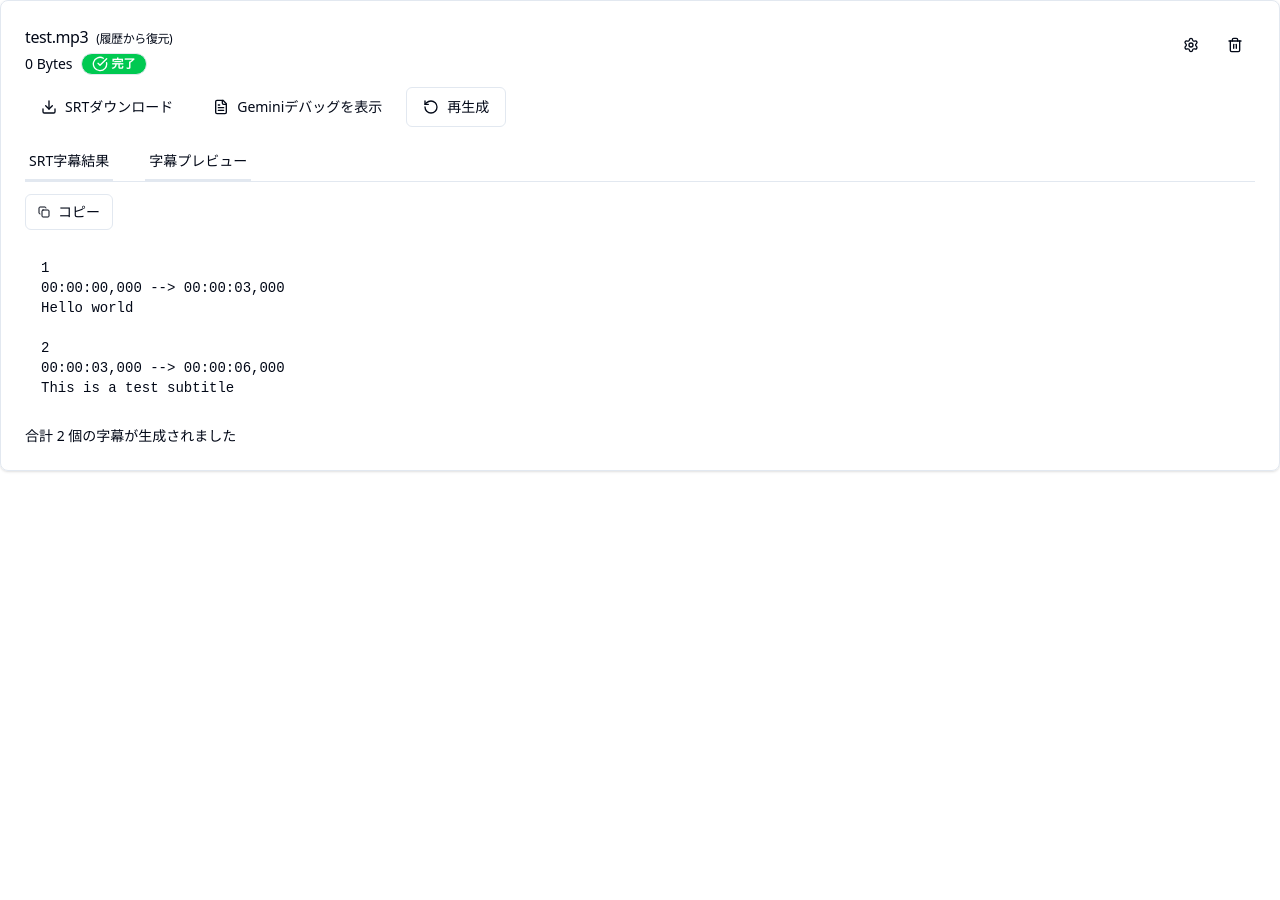
Test case: SrtFileCard Preview Integration › switches between result and preview tabs when clicked
This screenshot has width=1280, height=900.
expect the text "This is a test subtitle" is shown: met, box [41,260,285,396]
// Click preview tab
Click the button "字幕プレビュー": (198, 162) [145,143,251,181]
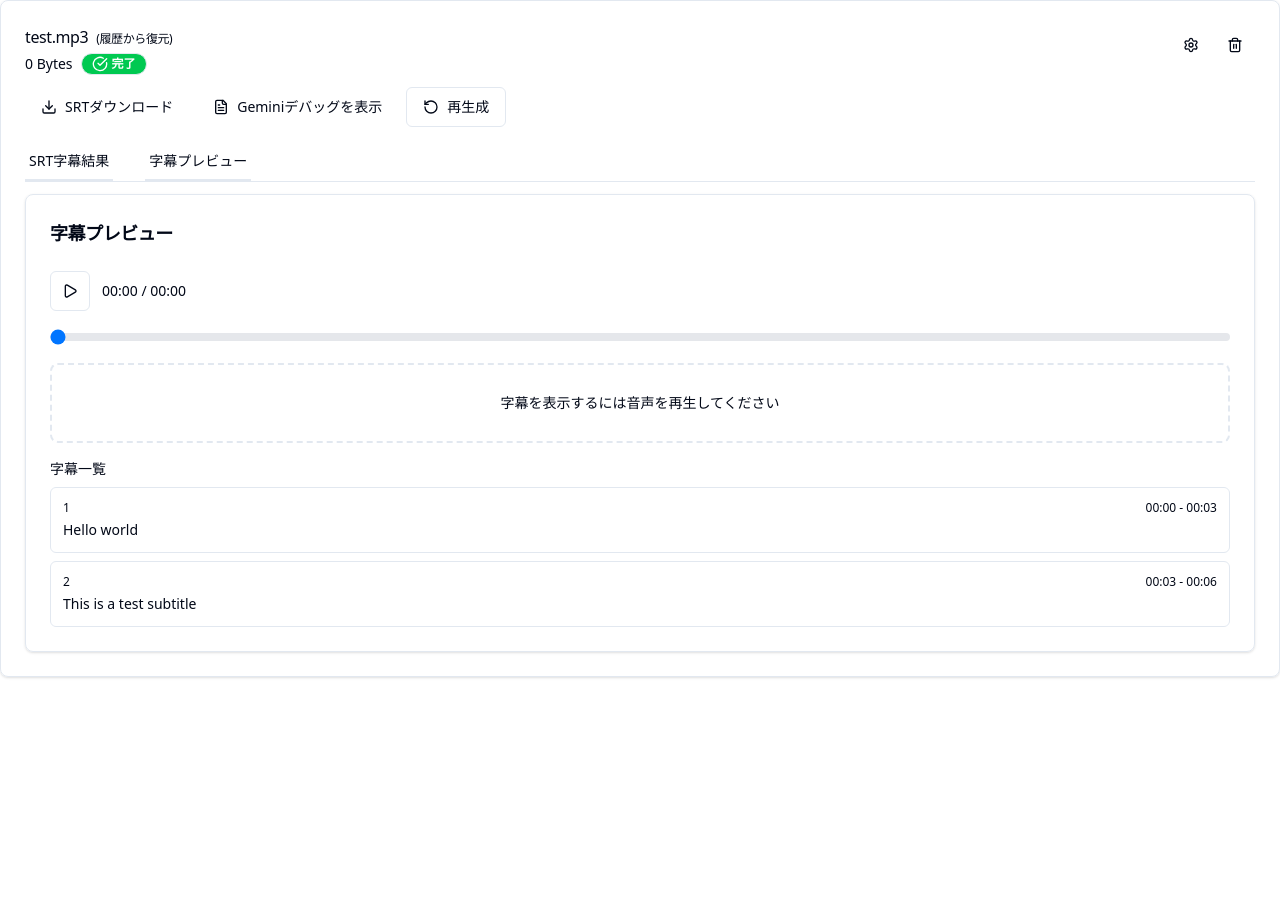
expect the element with test id "subtitle-display" is shown: met, box [50,363,1230,443]
expect the button named "play" is shown: met, box [50,271,90,311]
expect the text "00:00:00,000 --> 00:00:03,000" is gone: met
// Click back to result tab
Click the button "SRT字幕結果": (69, 162) [25,143,113,181]
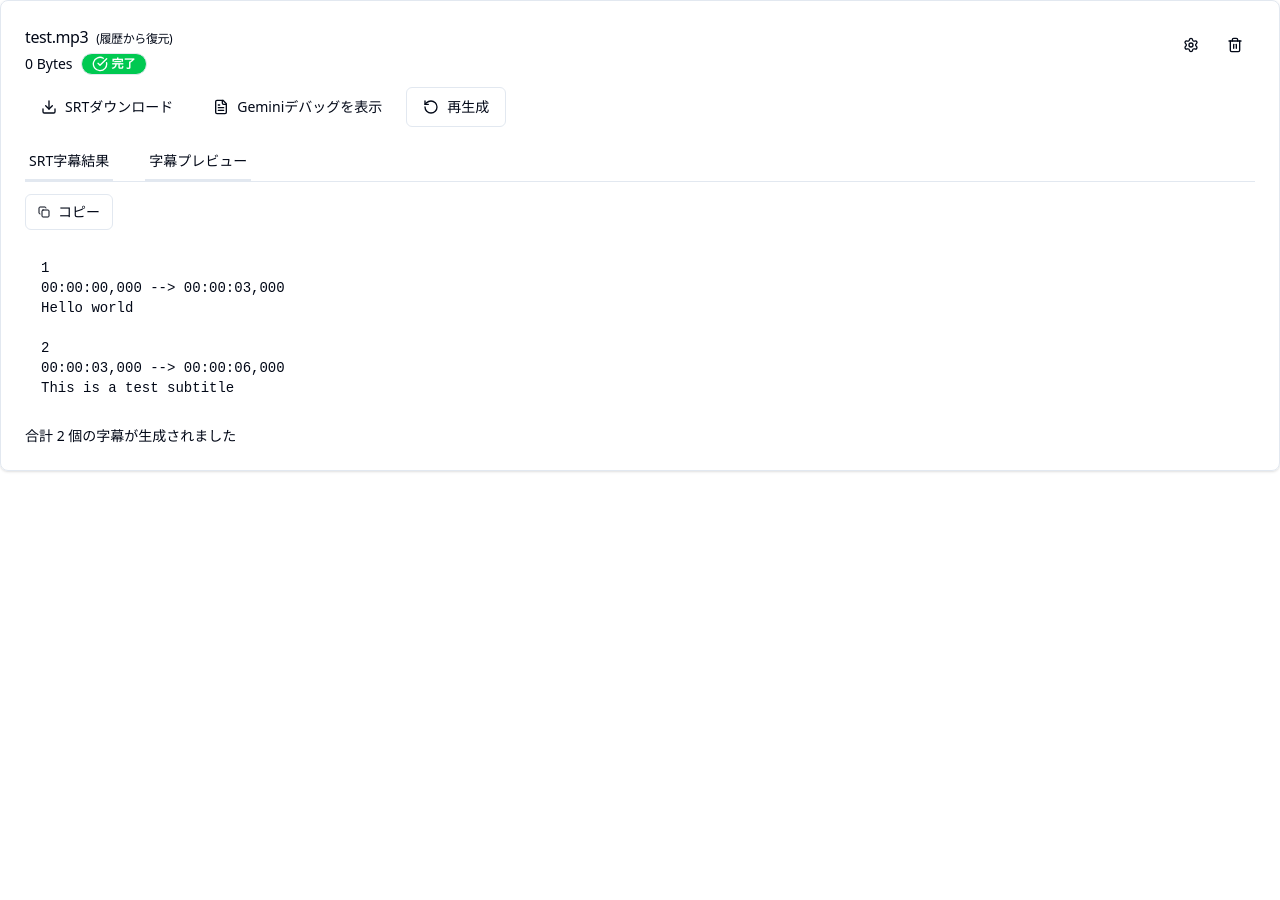
expect the text "00:00:00,000 --> 00:00:03,000" is shown: met, box [41,260,285,396]
expect the element with test id "subtitle-display" is gone: met
